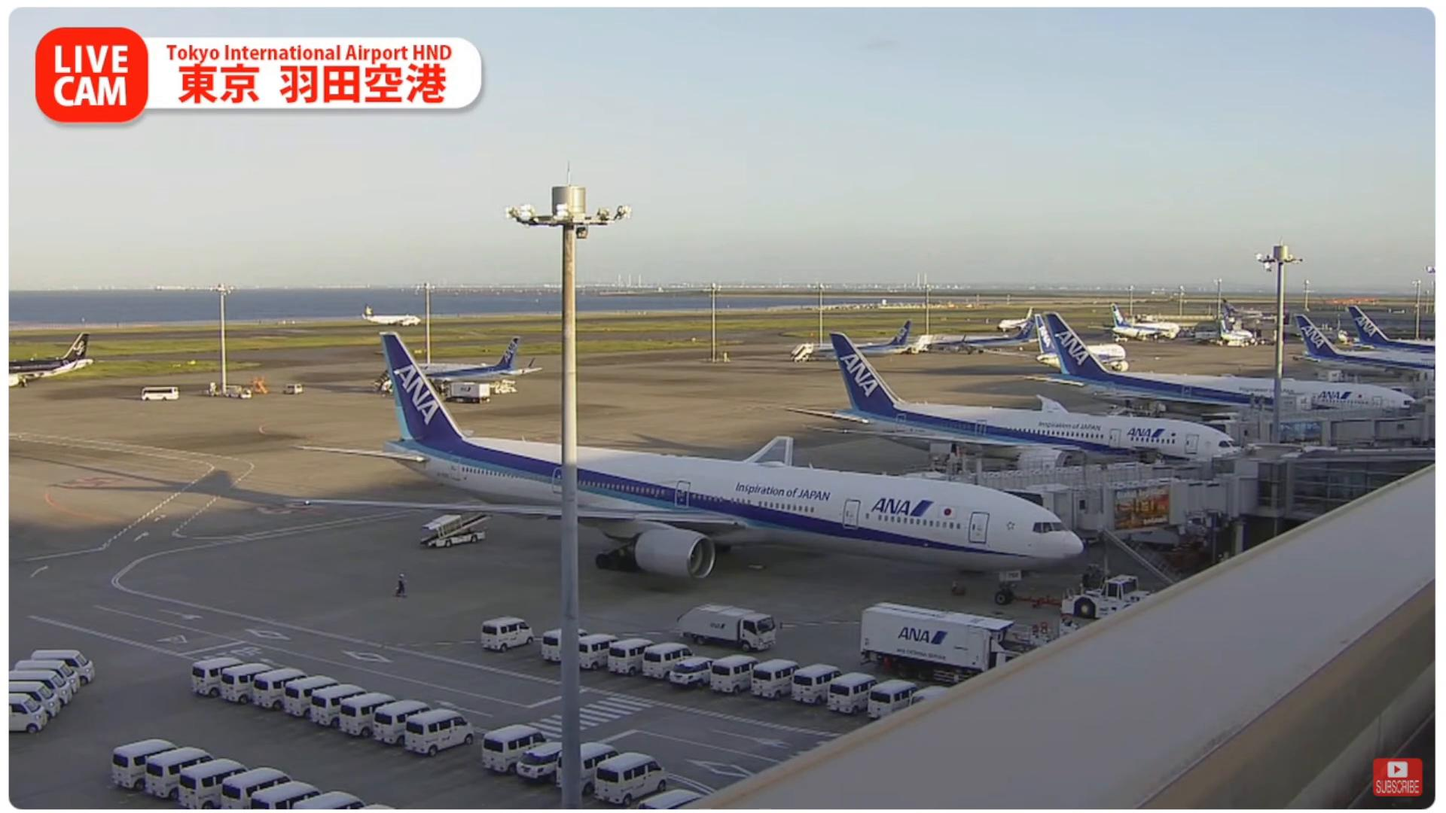APS: (1064, 575, 1152, 621)
Aerobridge: (1002, 452, 1258, 588), (892, 443, 1211, 486)
Airplane: (279, 333, 1086, 605)
Baggage truck: (677, 602, 775, 651)
Catering: (858, 602, 1043, 683)
JCPL: (1008, 619, 1079, 646)
Skyloader: (422, 512, 490, 548)
Window: (1291, 461, 1433, 515)
